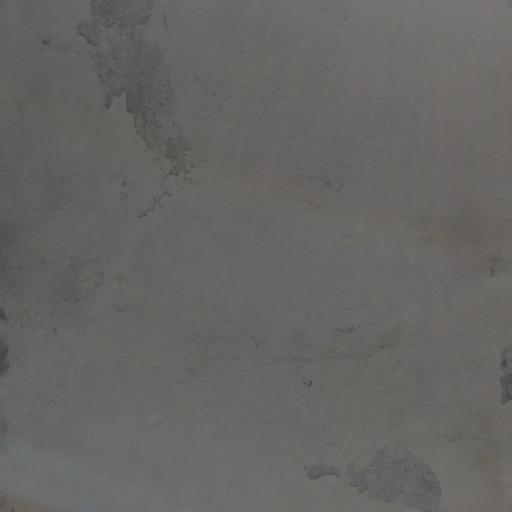peeling: (53, 3, 226, 238), (299, 419, 446, 512)
